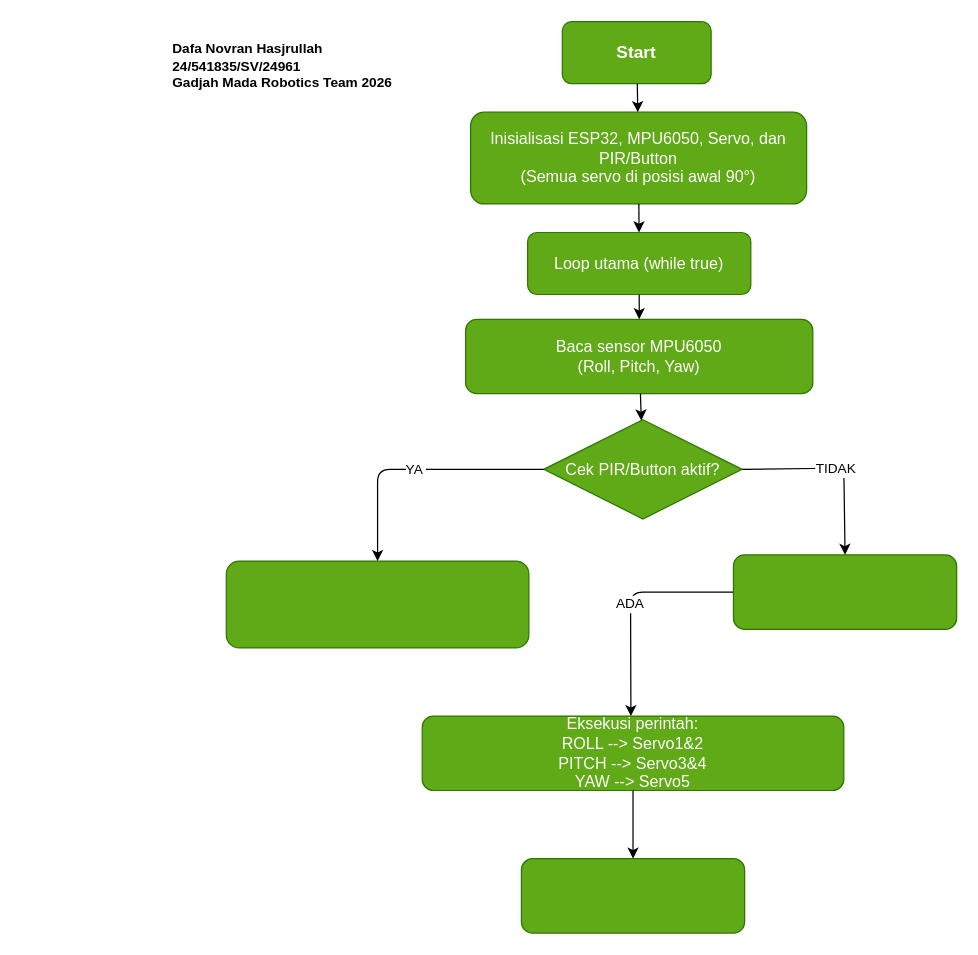
Some shapes in this 978 by 955 pixel diagram are drawn without their labels. Each missing label, with the centre of its shape:
Apakah ada perintah Serial? (ROLL / PITCH / YAW): (844,591)
Jika aktif: Semua servo bergerak ke 45°, lalu kembali ke 90°: (377,604)
Kembali ke Loop utama: (632,895)
